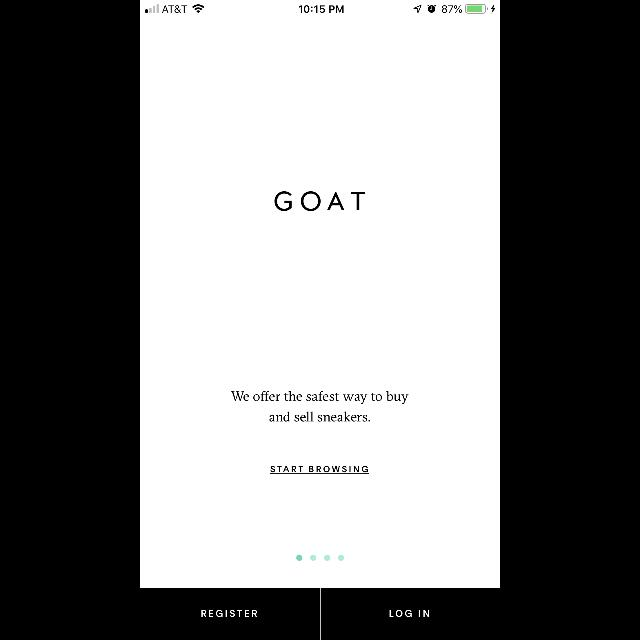pageindicator: (296, 555, 344, 561)
text: (232, 391, 408, 422), (274, 191, 366, 211), (270, 466, 370, 474)
textbutton: (320, 588, 500, 640), (140, 588, 320, 640)
uppertaskbar: (140, 0, 500, 14)
